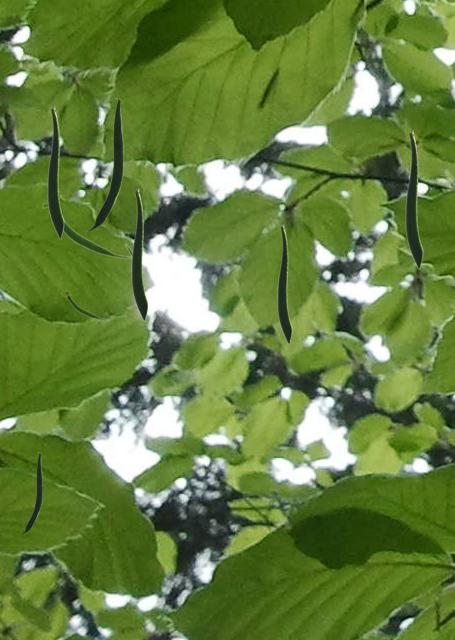french_bean: (41, 202, 131, 258), (86, 98, 122, 230), (405, 130, 422, 268), (131, 188, 147, 320), (47, 106, 63, 238), (277, 224, 291, 343), (21, 452, 41, 533), (61, 290, 109, 319)
